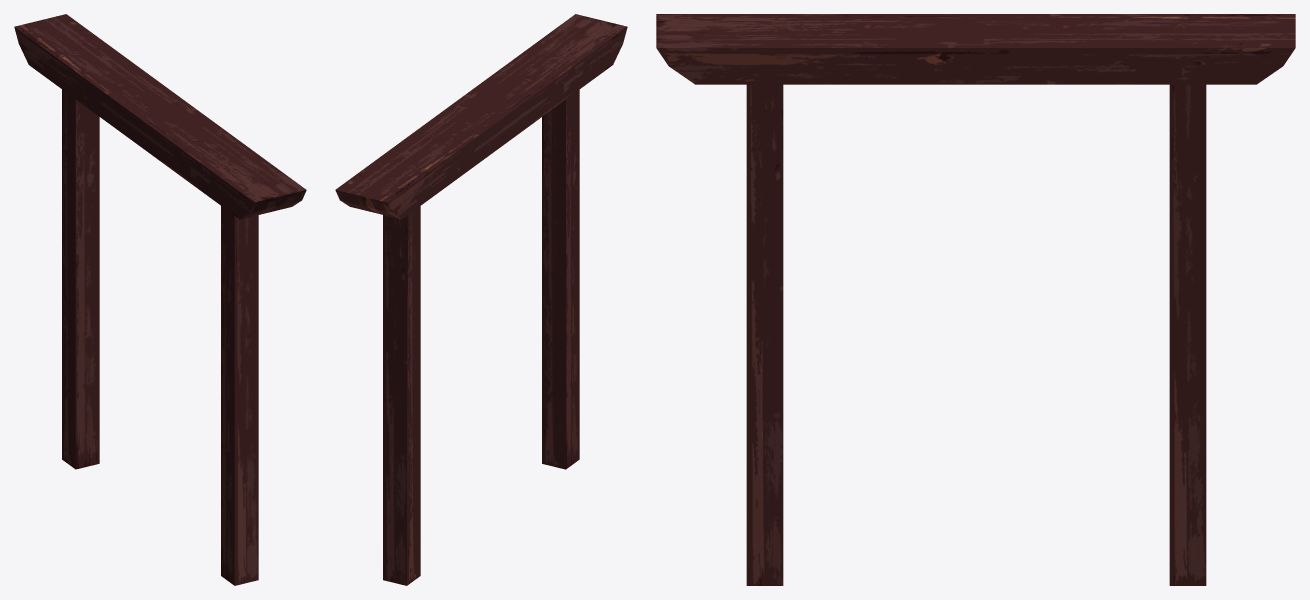
Rendered from fence-gates.fbx.
3 renders of one model, left to right at view 1: azimuth 30°, elevation 25°; view 2: azimuth 150°, elevation 25°; view 3: azimuth 270°, elevation 25°, orthographic. The views are drawn at different scales.
Parts seen in each view (by area): view 1: Box005; view 2: Box005; view 3: Box005.
Part boxes in pixels (left/top/right/bottom): Box005: left=14, top=14, right=306, bottom=585; Box005: left=335, top=14, right=627, bottom=585; Box005: left=656, top=14, right=1295, bottom=585.
Size of the model in its own units: 12.86 by 97.02 by 103.
